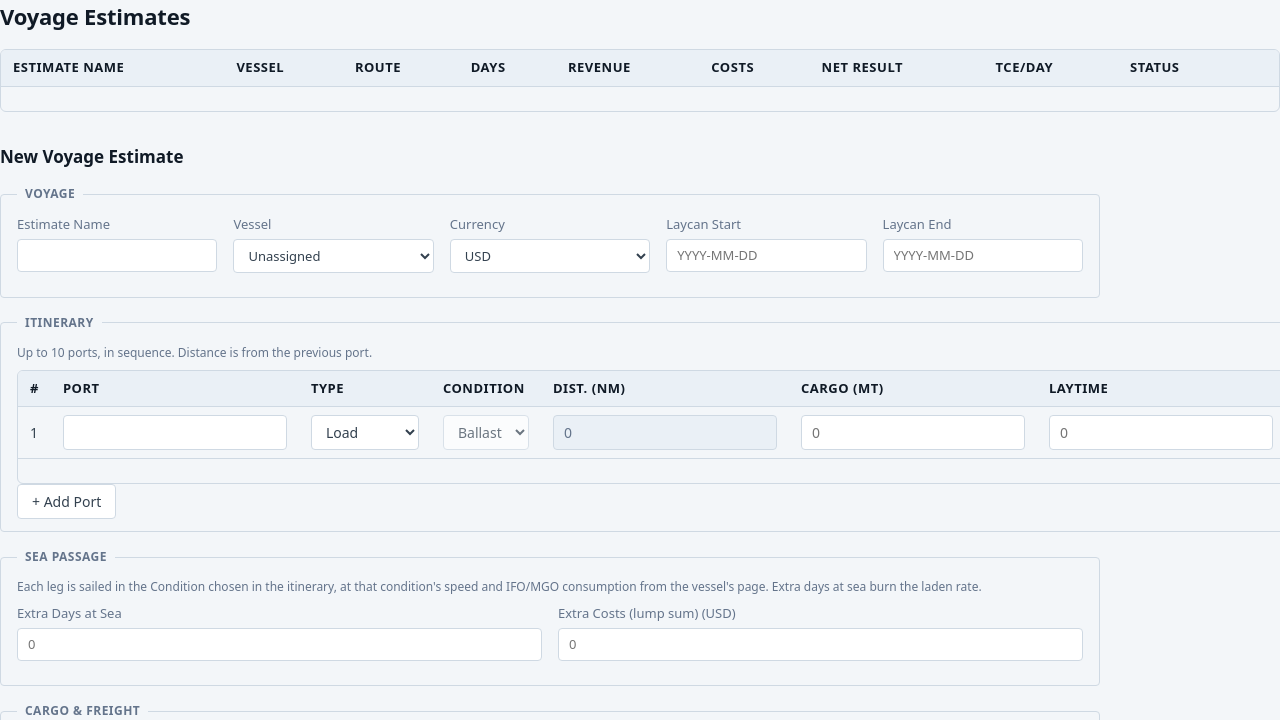
VoyageEstimatesPage › explains in the results when the vessel has no speed for a leg condition
Type "Ust-Luga" into the field named "Port 1".
click(175, 432); type("Ust-Luga")  # box [63,415,287,450]
(page scrolled)
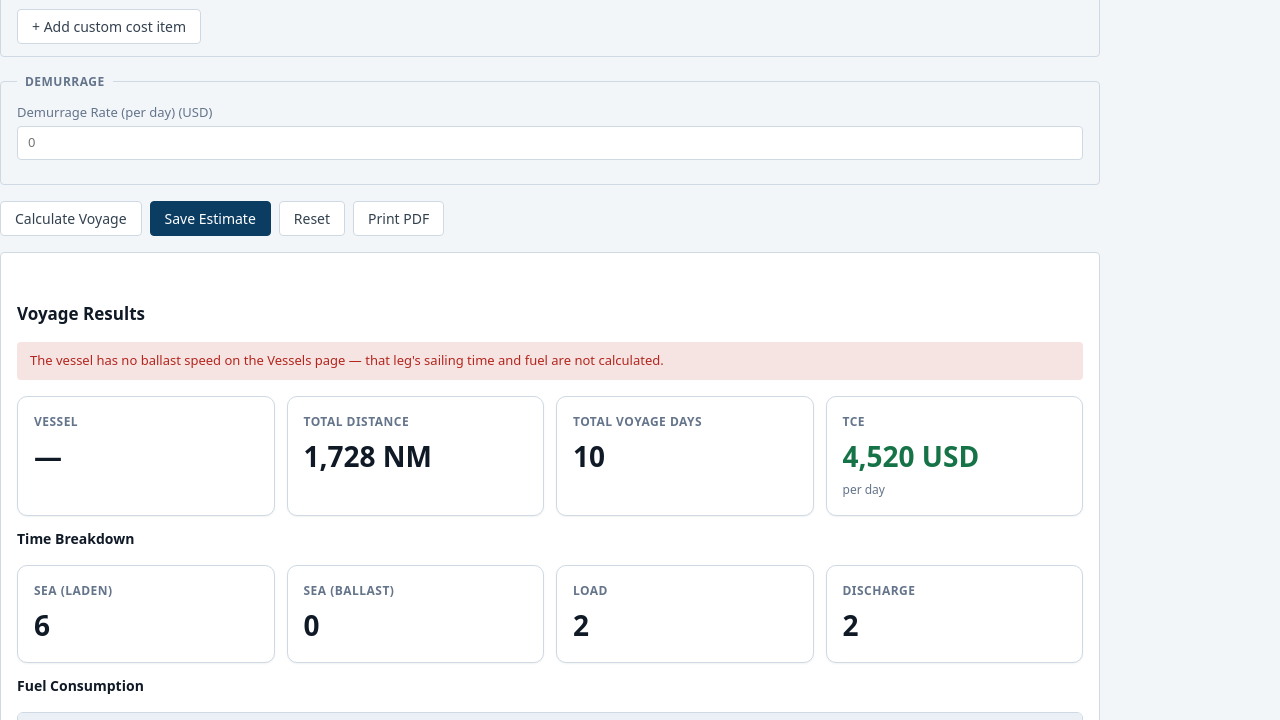
Expected: the text "no ballast speed on the Vessels page" is shown, [30,351,664,369]
